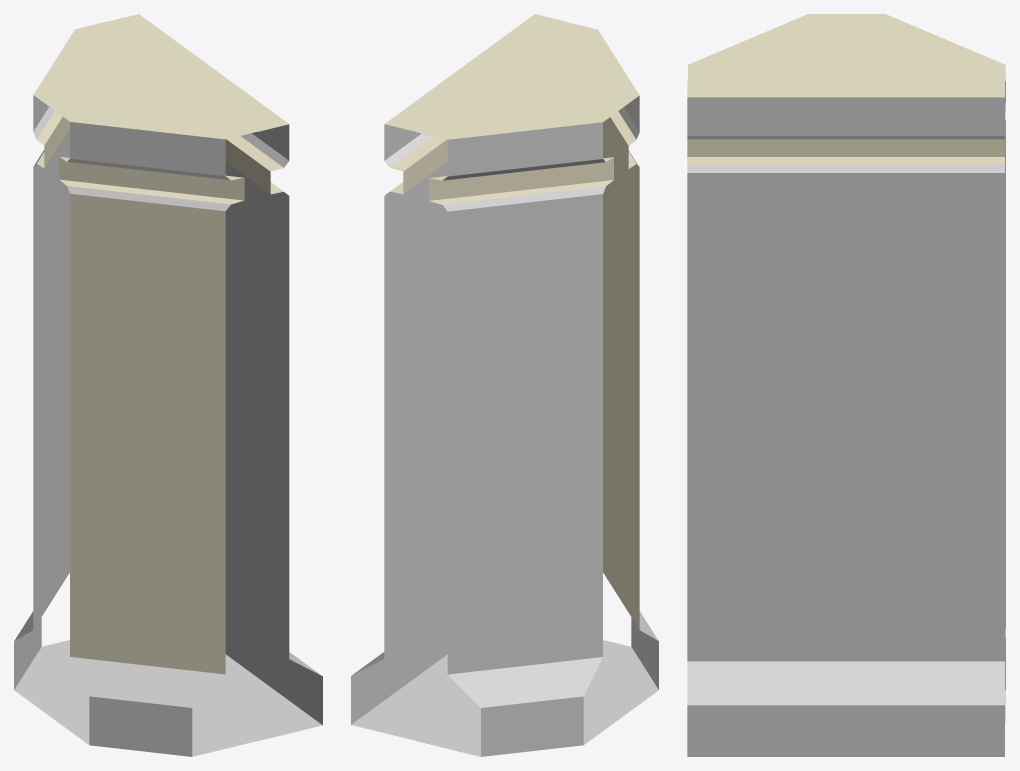
File: wall-tbar.fbx
The picture shows the model from 3 angles, left to right: view 1: azimuth 30°, elevation 25°; view 2: azimuth 150°, elevation 25°; view 3: azimuth 270°, elevation 25°; orthographic projection. The views are drawn at different scales.
Visible parts, largest first — view 1: wall_t; view 2: wall_t; view 3: wall_t.
Part boxes in pixels (x1,y1,x2,y2): wall_t: (14, 14, 322, 756); wall_t: (351, 14, 658, 756); wall_t: (687, 14, 1005, 756).
Bounding box in the file's own units: 75 × 223 × 100.
